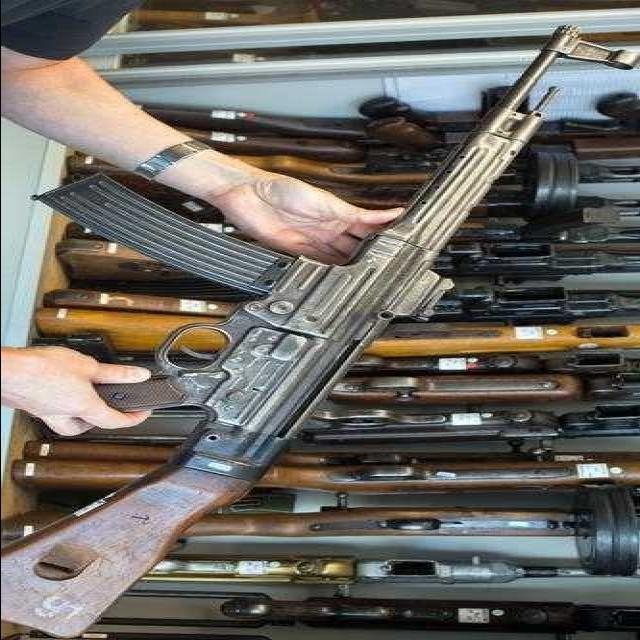heavyweapon: (1, 24, 622, 640)
